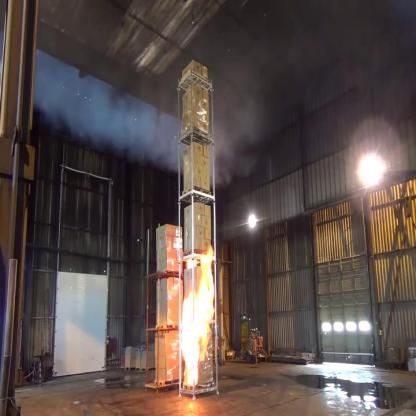fire: (177, 245, 218, 395)
